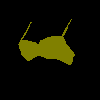reggiseno: (18, 16, 75, 65)
